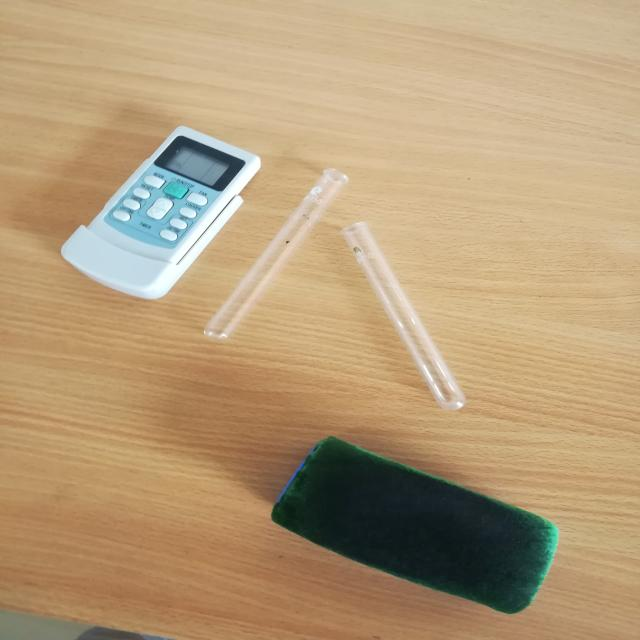Test_Tube: (334, 196, 500, 426), (187, 150, 364, 357)
